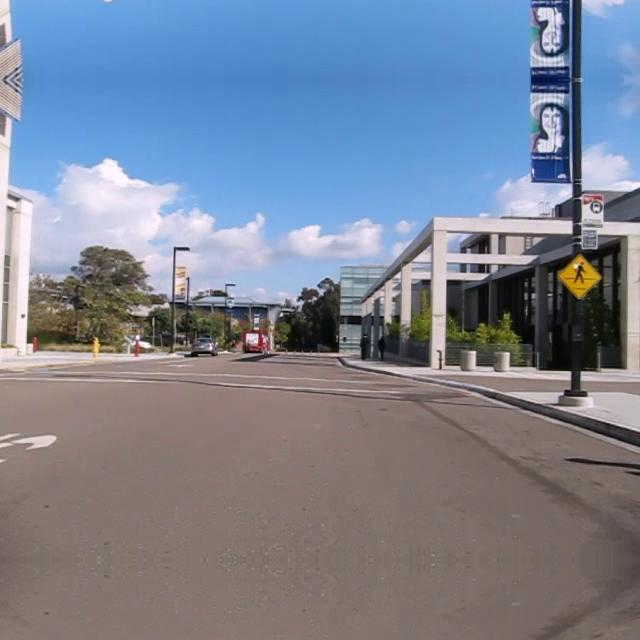pedestrianCrossing: (556, 252, 602, 298)
